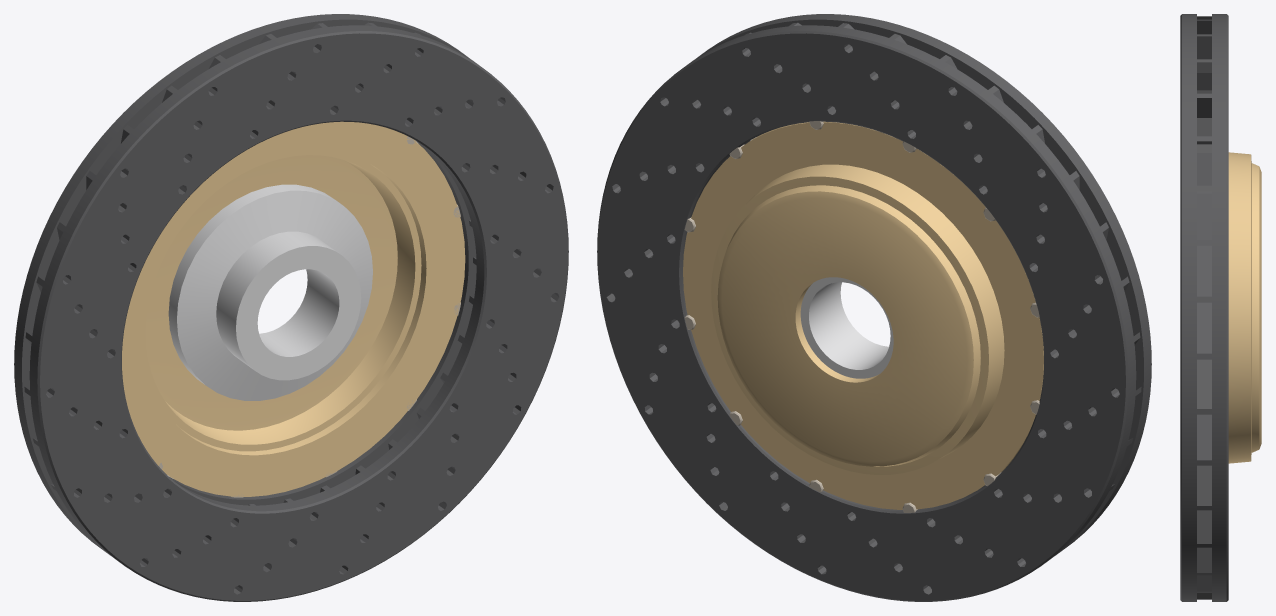
The model's file is SM_Brake_Rear_Disc.fbx.
3 renders of one model, left to right at view 1: azimuth 30°, elevation 25°; view 2: azimuth 150°, elevation 25°; view 3: azimuth 270°, elevation 25°, orthographic. The views are drawn at different scales.
Visible parts, largest first — view 1: Export_Brake_Rear_Disc; view 2: Export_Brake_Rear_Disc; view 3: Export_Brake_Rear_Disc.
Boxes of the visible parts, x1,y1,x2,y2 form: Export_Brake_Rear_Disc: (14, 14, 568, 601); Export_Brake_Rear_Disc: (597, 14, 1151, 601); Export_Brake_Rear_Disc: (1180, 14, 1261, 601).
Bounding box in the file's own units: 0.054 × 0.39 × 0.39.
